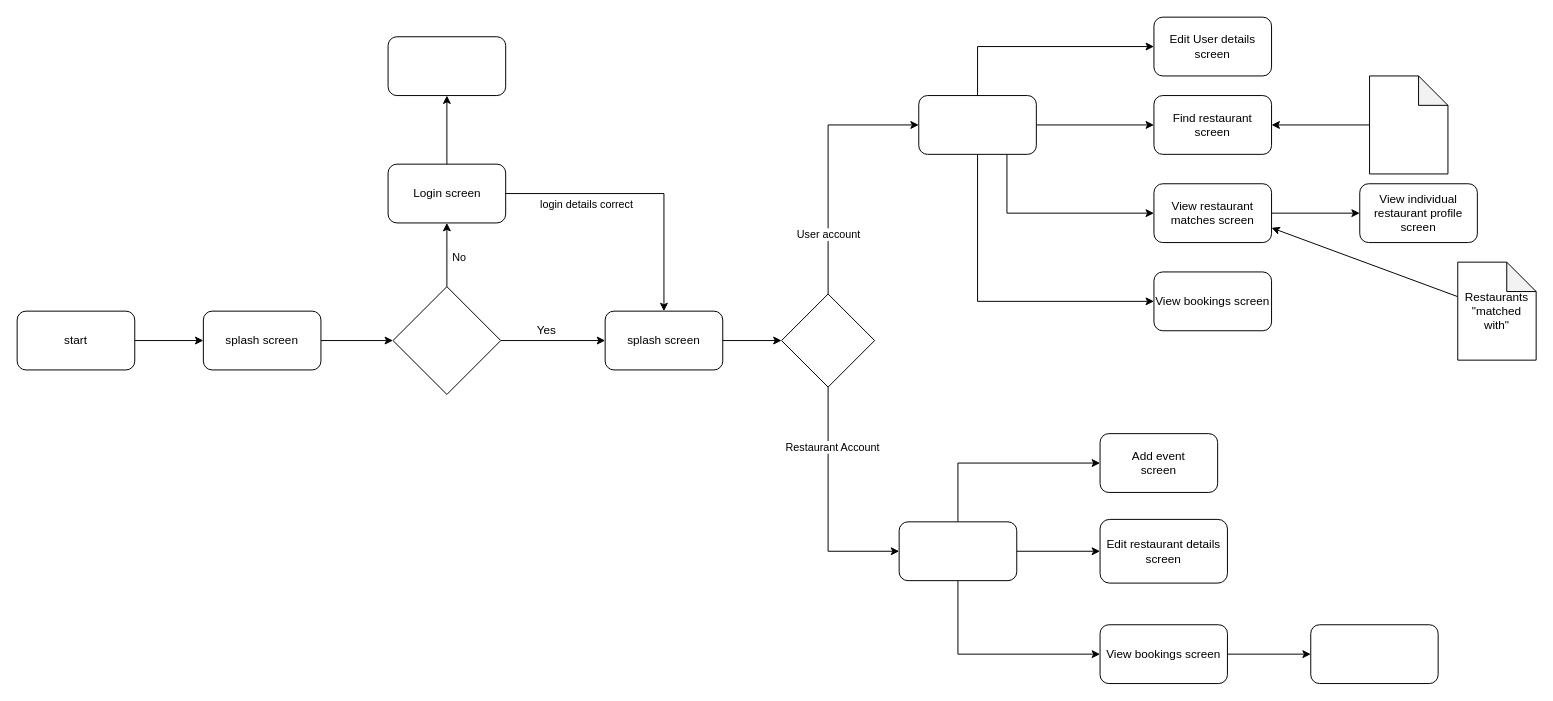
Some shapes in this 1553 by 701 pixel diagram are drawn without their labels. Each missing label, with the centre of its shape:
"Account type" goes at (x=828, y=340).
"Is user authenticated" goes at (x=446, y=340).
"Register screen" goes at (x=446, y=66).
"Restaurant account home screen" goes at (x=957, y=551).
"Tinder like swipe screen" goes at (x=1408, y=124).
"User account home screen" goes at (x=977, y=124).
"View booking timeslot screen" goes at (x=1374, y=654).
